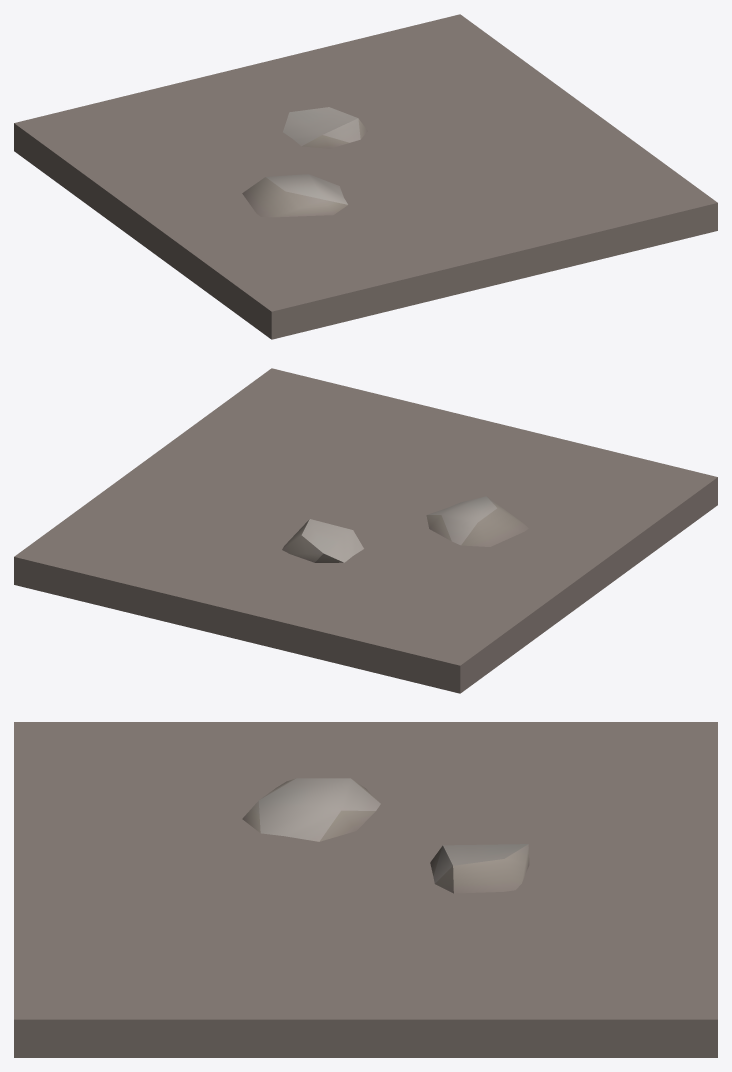
Rendered from b_donjon_sol_terre_b.glb.
The picture shows the model from 3 angles, top to bottom: view 1: azimuth 30°, elevation 25°; view 2: azimuth 150°, elevation 25°; view 3: azimuth 270°, elevation 25°; orthographic projection. The views are drawn at different scales.
Visible parts, largest first — view 1: b_donjon_sol_terre_b; view 2: b_donjon_sol_terre_b; view 3: b_donjon_sol_terre_b.
Boxes of the visible parts, bbox=[...] form: b_donjon_sol_terre_b: bbox=[14, 14, 717, 339]; b_donjon_sol_terre_b: bbox=[14, 368, 717, 693]; b_donjon_sol_terre_b: bbox=[14, 722, 717, 1057].
Bounding box in the file's own units: 2 × 0.1887 × 2.
1 material, 1 textured.
